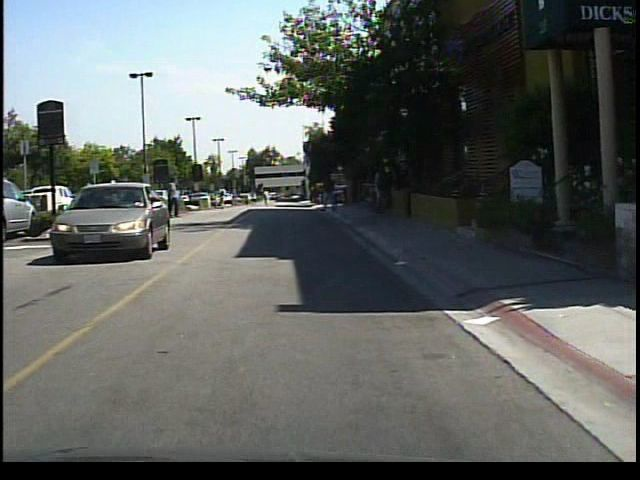person: (373, 162, 395, 224), (107, 177, 129, 229), (320, 170, 343, 219), (164, 172, 184, 221), (80, 182, 97, 227), (218, 187, 232, 214), (261, 190, 271, 210)
